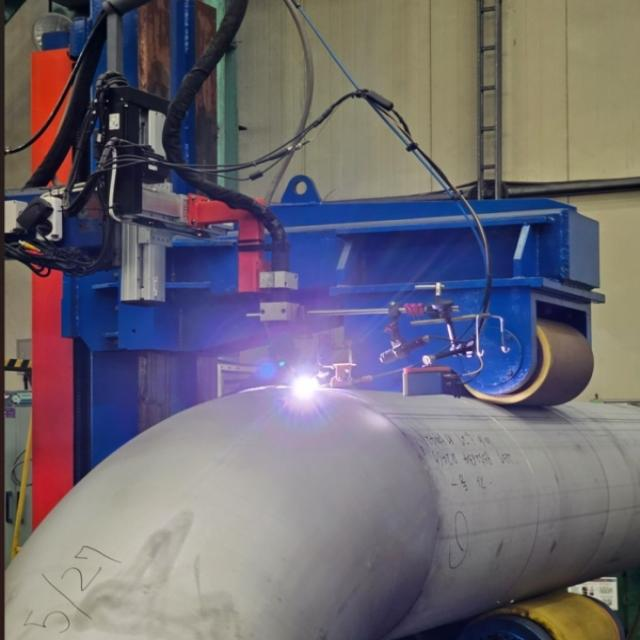welding: (290, 372, 324, 404)
